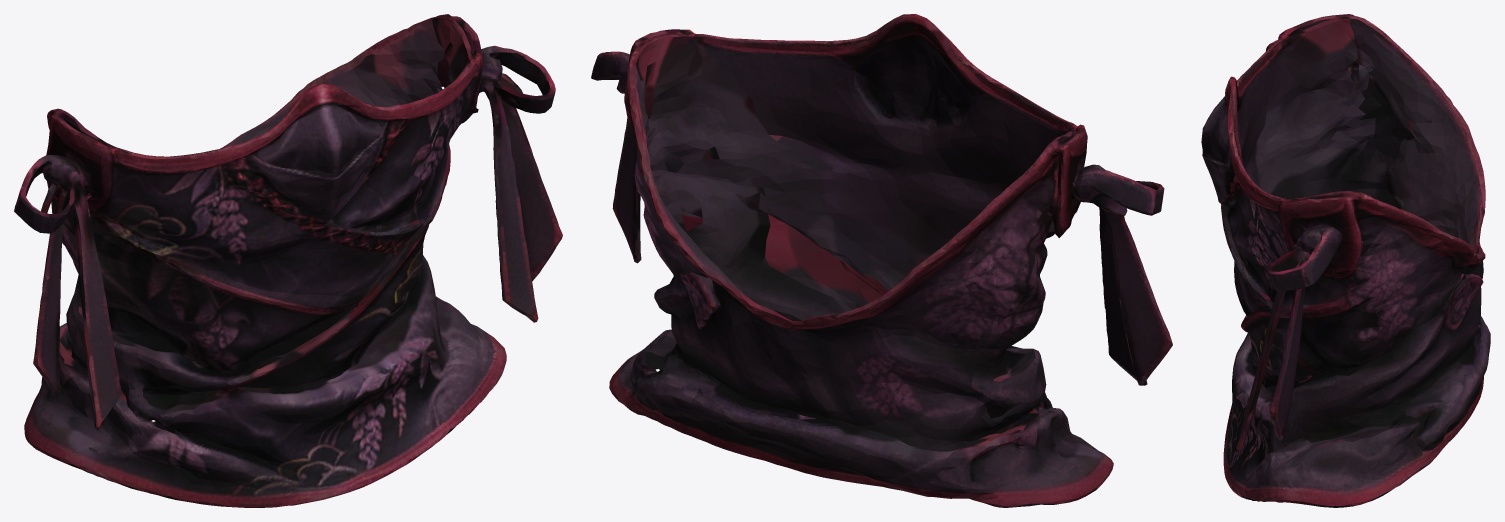
The model's file is mitsue_shinobi_mask_source.glb.
3 renders of one model, left to right at view 1: azimuth 30°, elevation 25°; view 2: azimuth 150°, elevation 25°; view 3: azimuth 270°, elevation 25°, orthographic. The views are drawn at different scales.
Parts seen in each view (by area): view 1: temp_mesh.ply; view 2: temp_mesh.ply; view 3: temp_mesh.ply.
Part boxes in pixels (x1,y1,x2,y2): temp_mesh.ply: (14, 14, 562, 507); temp_mesh.ply: (591, 14, 1172, 507); temp_mesh.ply: (1201, 14, 1490, 507).
Bounding box in the file's own units: 1.98 × 1.47 × 1.01.
Materials: 1 (1 with a texture image).
